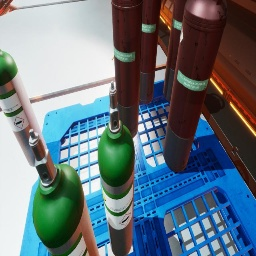0: (29, 129, 100, 256), (98, 81, 135, 256), (0, 49, 48, 167)
NitrogenTank ,: (163, 0, 228, 172), (111, 0, 143, 138), (163, 0, 187, 102), (139, 0, 161, 105)
